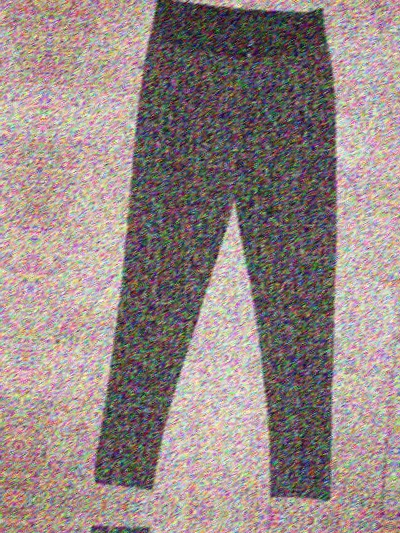Pants: (70, 0, 400, 510), (28, 518, 360, 533)
